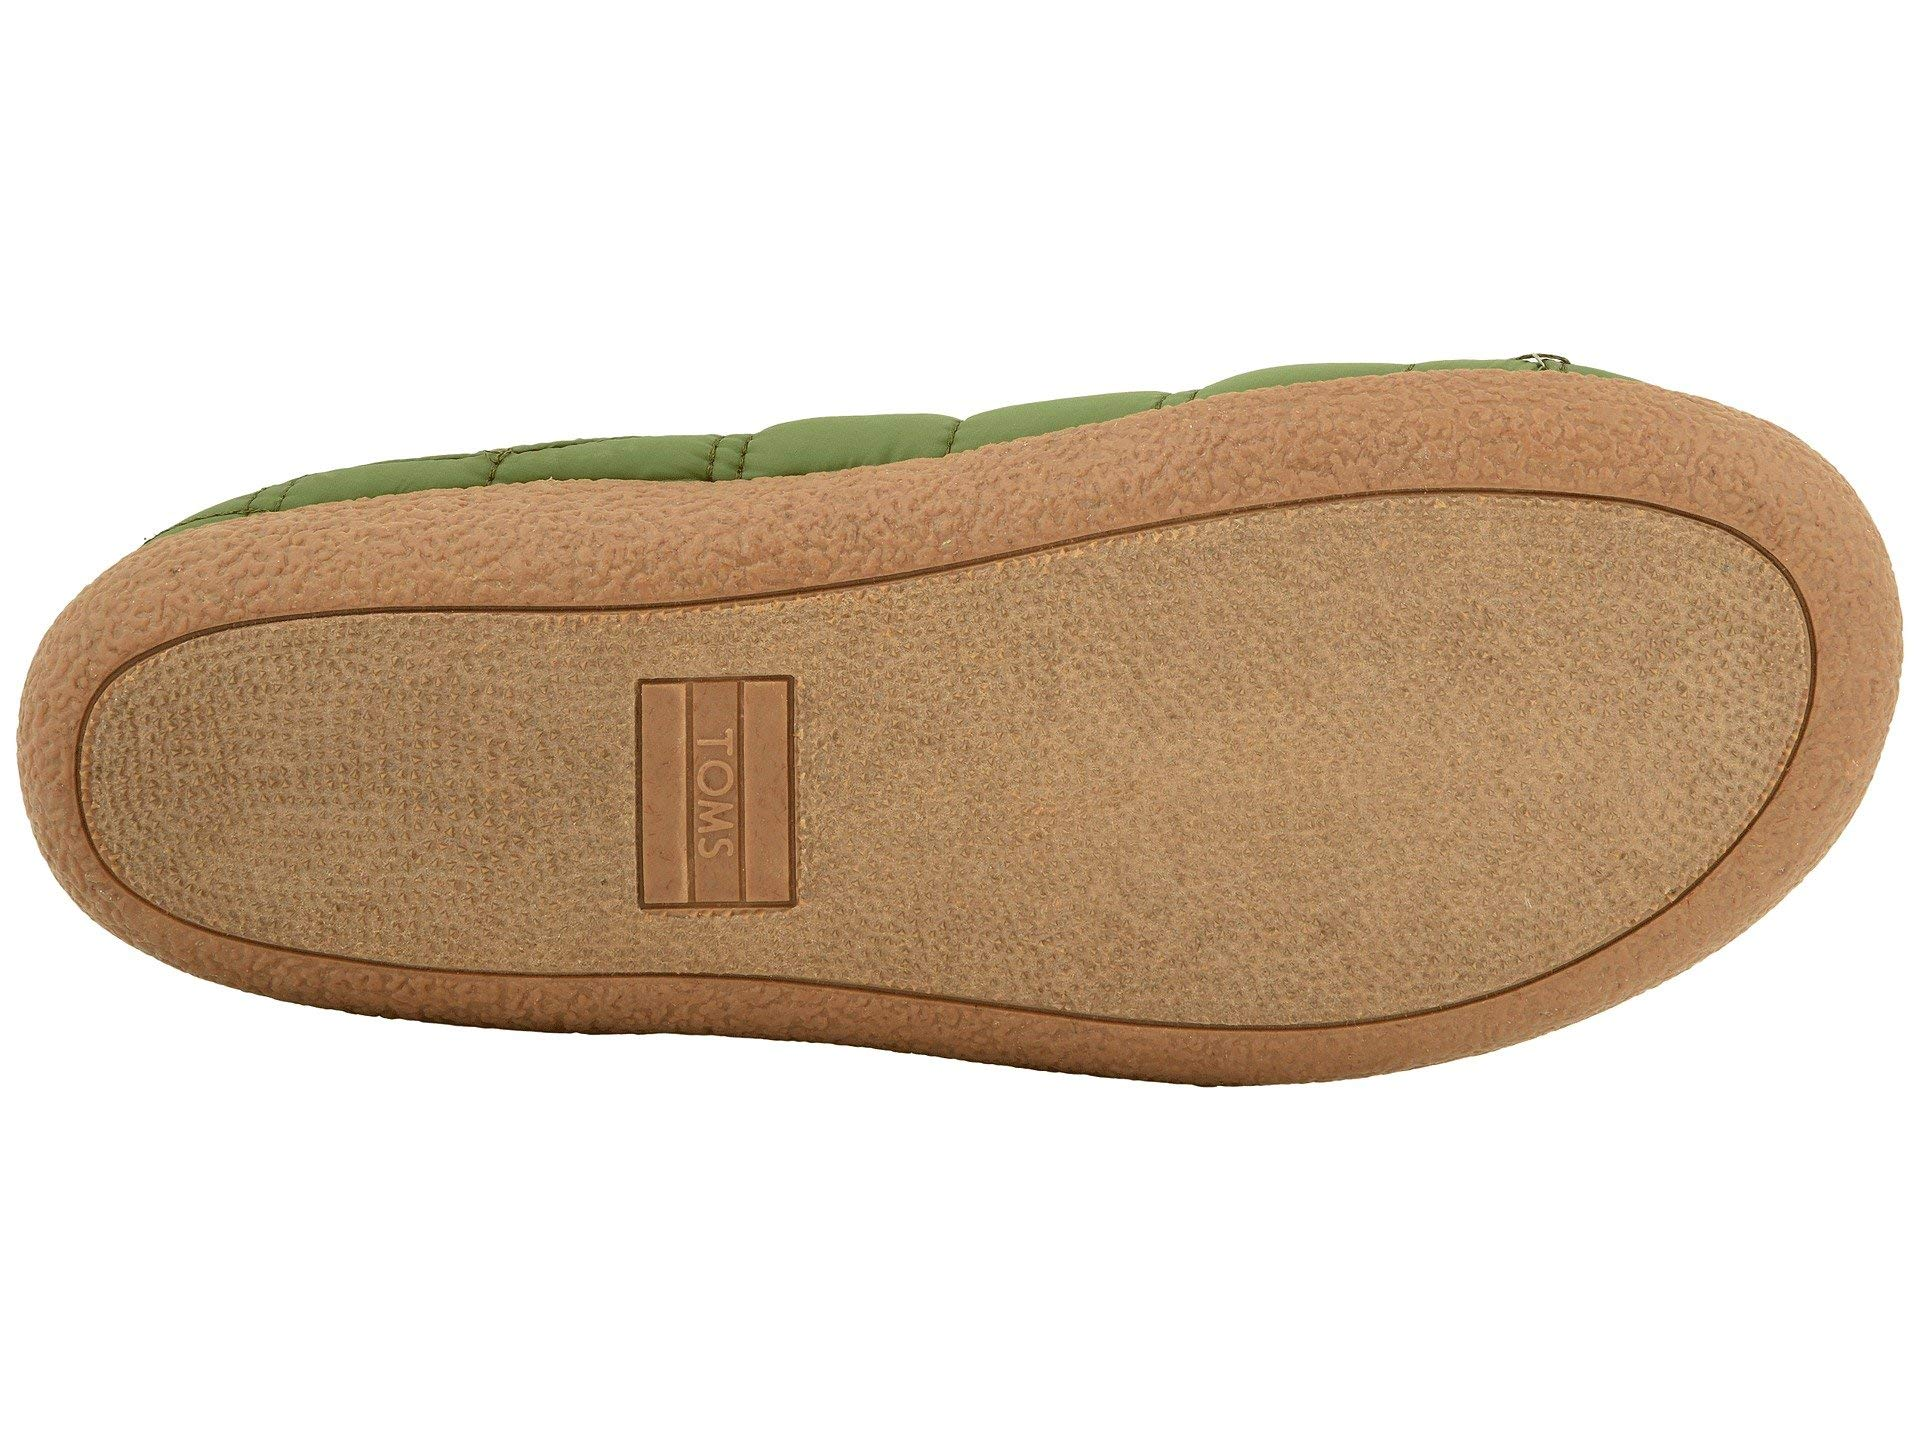circle: (529, 619, 918, 991)
quad: (529, 619, 918, 991)
text: (529, 619, 918, 991)
